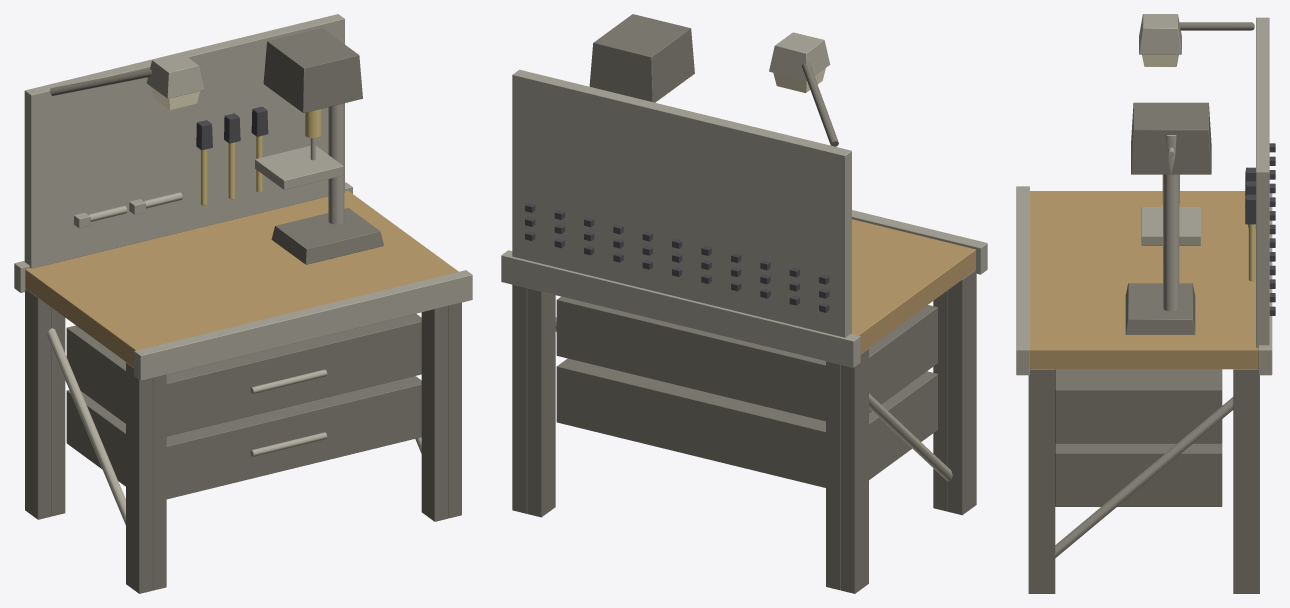
Rendered from DD_workbench2_L0.fbx.
3 renders of one model, left to right at view 1: azimuth 30°, elevation 25°; view 2: azimuth 150°, elevation 25°; view 3: azimuth 270°, elevation 25°, orthographic. The views are drawn at different scales.
Parts seen in each view (by area): view 1: DD_workbench2_L0; view 2: DD_workbench2_L0; view 3: DD_workbench2_L0.
Boxes of the visible parts, <box> form: DD_workbench2_L0: <box>14,14,472,593</box>; DD_workbench2_L0: <box>501,14,987,593</box>; DD_workbench2_L0: <box>1016,14,1275,593</box>.
Bounding box in the file's own units: 1.44 × 1.9 × 0.9625.
